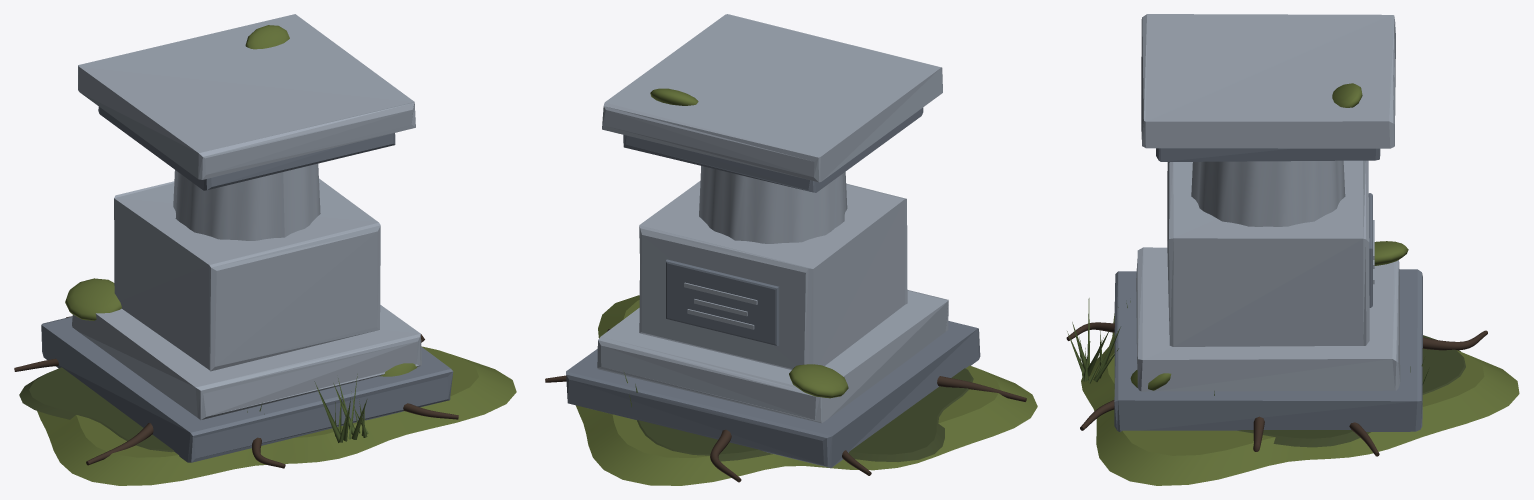
The model's file is BAYOU_PEDESTAL.glb.
3 views of the same model, side by side, from view 1: azimuth 30°, elevation 25°; view 2: azimuth 150°, elevation 25°; view 3: azimuth 270°, elevation 25° (orthographic).
Visible parts, largest first — view 1: Die, Cap_Top, Base, Plinth, Ground, Column, Ground_Mud, Cap_Lower, Moss, Roots, Grass; view 2: Cap_Top, Die, Base, Plinth, Ground, Column, Ground_Mud, Plaque, Cap_Lower, Moss, Roots; view 3: Cap_Top, Die, Base, Plinth, Ground, Column, Cap_Lower, Ground_Mud, Roots, Moss, Grass.
Part boxes in pixels (left/top/right/bottom): Die: left=114, top=178, right=380, bottom=371; Cap_Top: left=78, top=14, right=415, bottom=179; Base: left=41, top=316, right=453, bottom=462; Plinth: left=72, top=305, right=421, bottom=419; Ground: left=37, top=346, right=516, bottom=485; Column: left=173, top=163, right=320, bottom=240; Ground_Mud: left=19, top=367, right=174, bottom=452; Cap_Lower: left=98, top=106, right=395, bottom=190; Moss: left=65, top=25, right=417, bottom=376; Roots: left=14, top=316, right=458, bottom=468; Grass: left=247, top=374, right=368, bottom=442; Cap_Top: left=602, top=14, right=942, bottom=182; Die: left=639, top=181, right=907, bottom=369; Base: left=566, top=321, right=980, bottom=467; Plinth: left=597, top=290, right=948, bottom=423; Ground: left=576, top=295, right=1037, bottom=485; Column: left=699, top=166, right=847, bottom=243; Ground_Mud: left=637, top=368, right=973, bottom=461; Plaque: left=666, top=259, right=779, bottom=345; Cap_Lower: left=623, top=107, right=923, bottom=192; Moss: left=650, top=88, right=848, bottom=398; Roots: left=545, top=329, right=1026, bottom=482; Cap_Top: left=1141, top=14, right=1395, bottom=148; Die: left=1167, top=160, right=1369, bottom=346; Base: left=1114, top=269, right=1422, bottom=431; Plinth: left=1136, top=247, right=1400, bottom=391; Ground: left=1081, top=313, right=1519, bottom=485; Column: left=1191, top=160, right=1345, bottom=226; Cap_Lower: left=1156, top=148, right=1380, bottom=161; Ground_Mud: left=1237, top=335, right=1465, bottom=447; Roots: left=1066, top=322, right=1487, bottom=456; Moss: left=1130, top=83, right=1408, bottom=390; Grass: left=1067, top=298, right=1429, bottom=395.
Size of the model in its own units: 6.5 by 4.64 by 5.88.
